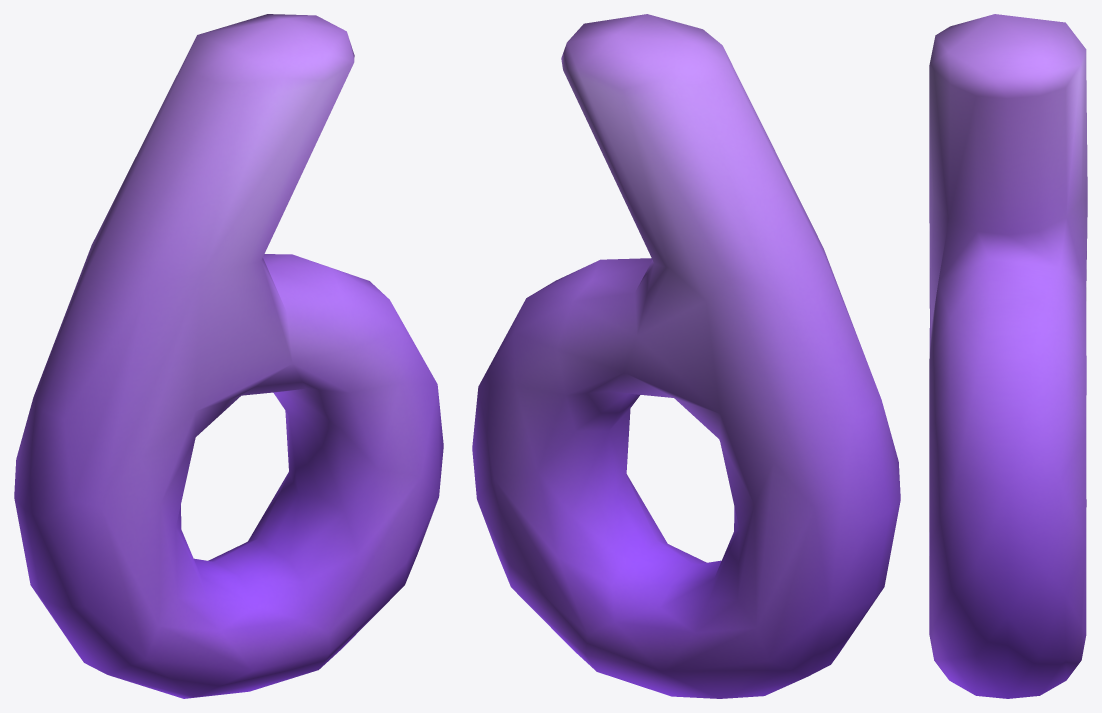
3 renders of one model, left to right at view 1: azimuth 30°, elevation 25°; view 2: azimuth 150°, elevation 25°; view 3: azimuth 270°, elevation 25°, orthographic. The views are drawn at different scales.
Parts seen in each view (by area): view 1: Processed_Mesh0_Geometry; view 2: Processed_Mesh0_Geometry; view 3: Processed_Mesh0_Geometry.
Part boxes in pixels (x1,y1,x2,y2): Processed_Mesh0_Geometry: (14, 14, 443, 698); Processed_Mesh0_Geometry: (472, 14, 900, 698); Processed_Mesh0_Geometry: (929, 14, 1087, 698).
Size of what is drawn, in the model's own units: 0.0532 by 0.0815 by 0.0176.
Materials: 1 (1 with a texture image).
